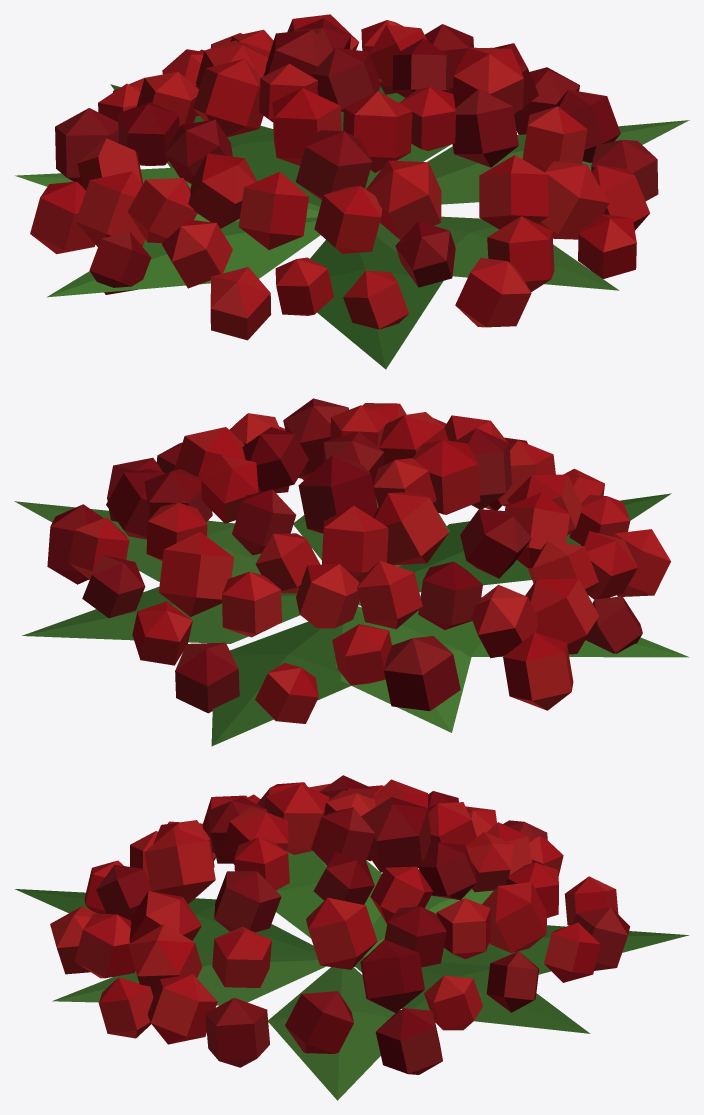
File: storage_berry.glb
3 views of the same model, one above another, from view 1: azimuth 30°, elevation 25°; view 2: azimuth 150°, elevation 25°; view 3: azimuth 270°, elevation 25° (orthographic). The views are drawn at different scales.
Parts seen in each view (by area): view 1: storage_berry; view 2: storage_berry; view 3: storage_berry.
Part boxes in pixels (box(x1,y1,x2,y2)): storage_berry: box(15, 14, 689, 369); storage_berry: box(14, 398, 689, 746); storage_berry: box(15, 775, 689, 1100).
Bounding box in the file's own units: 1.45 × 0.3831 × 1.4.
